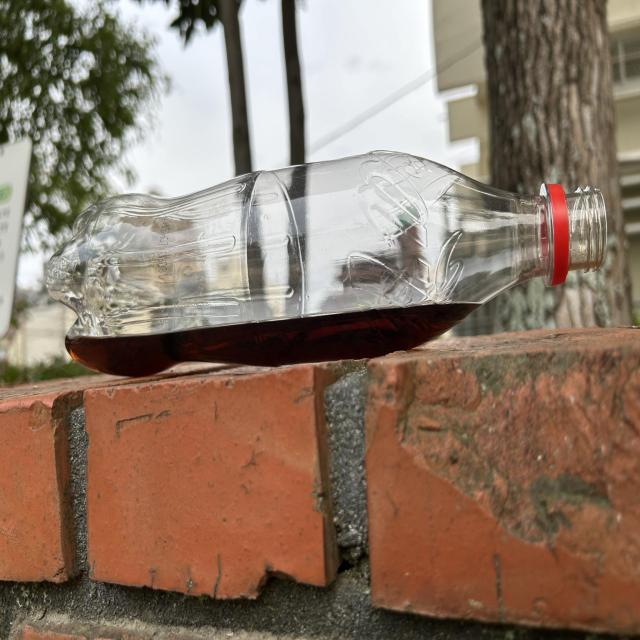low: (47, 151, 606, 375)
